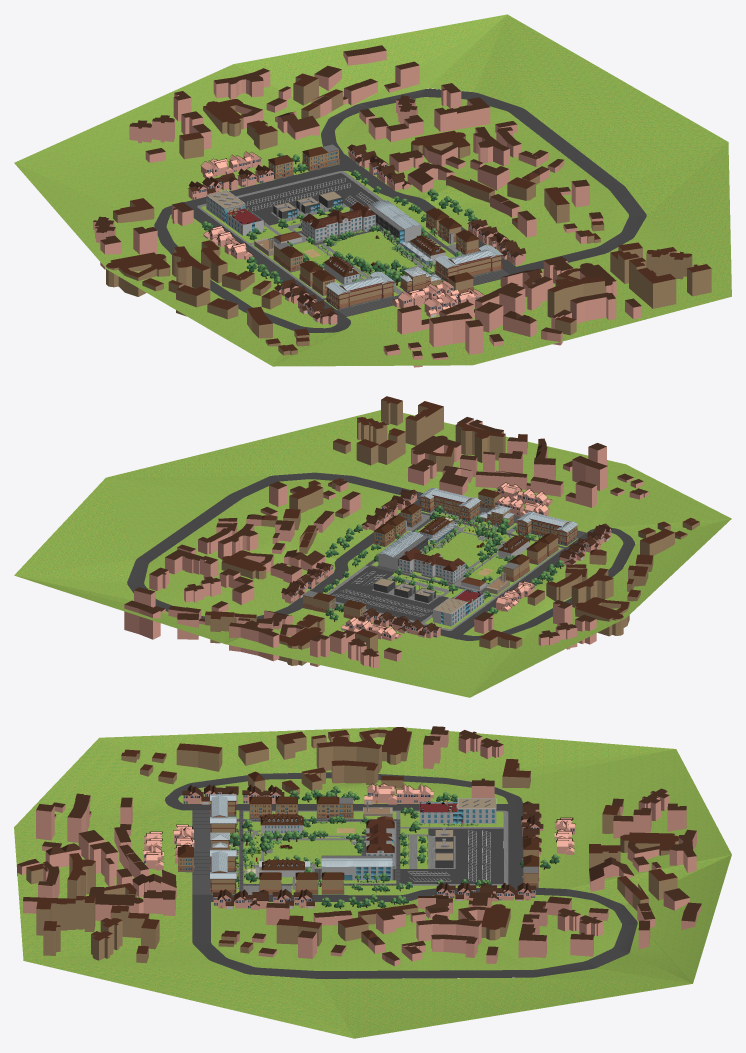
3 renders of one model, top to bottom at view 1: azimuth 30°, elevation 25°; view 2: azimuth 150°, elevation 25°; view 3: azimuth 270°, elevation 25°, orthographic. The views are drawn at different scales.
Visible parts, largest first — view 1: Ground, Blocks, Blocks.002, CampusBuildings.005, CityBuildings.002, CityBuildings.004, CityBuildings, CityBuildings.003, Main, CampusBuildings.002, BeegBuilding, CampusBuildings.004 (+2 smaller); view 2: Ground, Blocks, Blocks.002, CampusBuildings.005, CityBuildings.002, CityBuildings.003, CityBuildings.004, CityBuildings, Main, Trees, CampusBuildings.002, Studentenwohnheim (+2 smaller); view 3: Ground, Blocks, Blocks.002, CampusBuildings.005, CityBuildings, CityBuildings.004, CityBuildings.002, CityBuildings.003, CampusBuildings.002, BeegBuilding, Studentenwohnheim, Trees (+3 smaller).
Boxes of the visible parts, bbox=[...] form: Ground: bbox=[14, 14, 731, 366]; Blocks: bbox=[93, 45, 641, 367]; Blocks.002: bbox=[106, 73, 711, 355]; CampusBuildings.005: bbox=[322, 208, 509, 316]; CityBuildings.002: bbox=[188, 164, 274, 259]; CityBuildings.004: bbox=[200, 144, 411, 190]; CityBuildings: bbox=[392, 219, 525, 308]; CityBuildings.003: bbox=[274, 279, 484, 324]; Main: bbox=[302, 202, 375, 241]; CampusBuildings.002: bbox=[273, 242, 335, 295]; BeegBuilding: bbox=[366, 200, 421, 243]; CampusBuildings.004: bbox=[268, 144, 339, 179]; Ground: bbox=[14, 410, 731, 697]; Blocks: bbox=[124, 417, 648, 667]; Blocks.002: bbox=[205, 396, 699, 665]; CampusBuildings.005: bbox=[374, 488, 585, 571]; CityBuildings.002: bbox=[358, 581, 535, 638]; CityBuildings.003: bbox=[494, 482, 611, 565]; CityBuildings.004: bbox=[281, 562, 400, 640]; CityBuildings: bbox=[361, 489, 548, 530]; Main: bbox=[399, 547, 465, 582]; Trees: bbox=[393, 505, 540, 554]; CampusBuildings.002: bbox=[503, 533, 558, 582]; Studentenwohnheim: bbox=[433, 588, 484, 626]; Ground: bbox=[14, 727, 731, 1038]; Blocks: bbox=[17, 726, 701, 966]; Blocks.002: bbox=[26, 727, 678, 963]; CampusBuildings.005: bbox=[177, 794, 396, 894]; CityBuildings: bbox=[173, 824, 314, 909]; CityBuildings.004: bbox=[434, 817, 575, 901]; CityBuildings.002: bbox=[364, 783, 543, 854]; CityBuildings.003: bbox=[143, 784, 284, 870]; CampusBuildings.002: bbox=[249, 796, 353, 819]; BeegBuilding: bbox=[321, 855, 392, 880]; Studentenwohnheim: bbox=[419, 798, 496, 823]; Trees: bbox=[228, 819, 322, 886].
Bounding box in the file's own units: 642 × 49.53 × 634.
31 materials, 25 textured.
